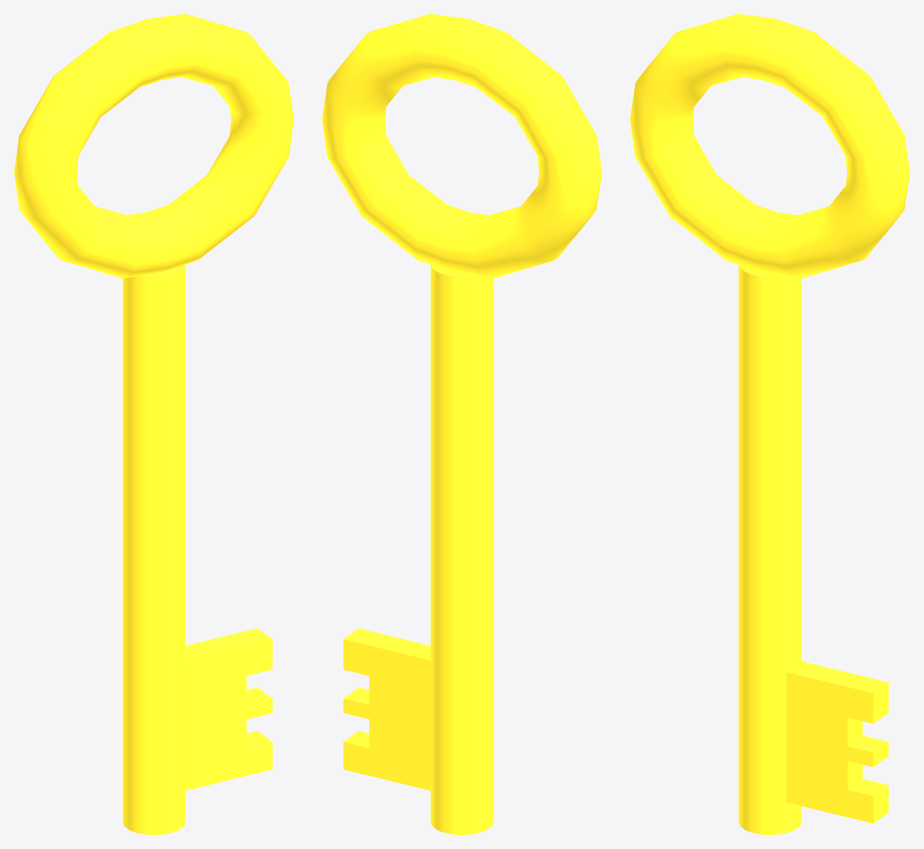
The model's file is RadioactiveKey.fbx.
3 renders of one model, left to right at view 1: azimuth 30°, elevation 25°; view 2: azimuth 150°, elevation 25°; view 3: azimuth 330°, elevation 25°, orthographic.
Parts seen in each view (by area): view 1: NurbsCurve, Cube; view 2: NurbsCurve, Cube; view 3: NurbsCurve, Cube.
Boxes of the visible parts, x1,y1,x2,y2 form: NurbsCurve: (14, 14, 293, 834); Cube: (185, 628, 272, 790); NurbsCurve: (322, 14, 601, 834); Cube: (343, 628, 430, 790); NurbsCurve: (630, 14, 909, 834); Cube: (786, 661, 888, 823).
Size of the model in its own units: 5 by 14.1 by 1.
